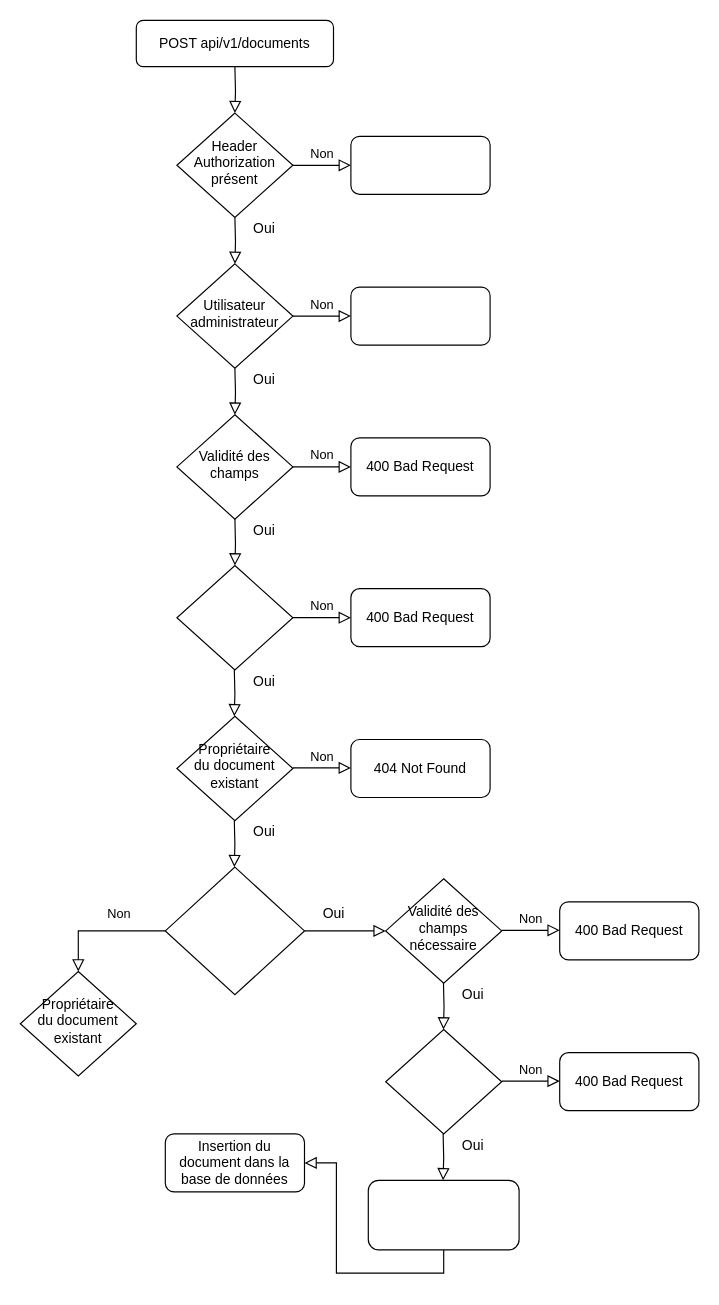
This 719x1305 diagram has some shape labels left out. Each missing label, with the centre of its shape:
401 Unauthorized: (x=420, y=164)
403 Forbidden: (x=420, y=315)
Code de forfait valide: (x=443, y=1081)
Document de type conditions d'inscription: (x=234, y=930)
Génération des conditions d'inscriptions sur le serveur: (x=443, y=1214)
Validité du type de document: (x=234, y=617)
